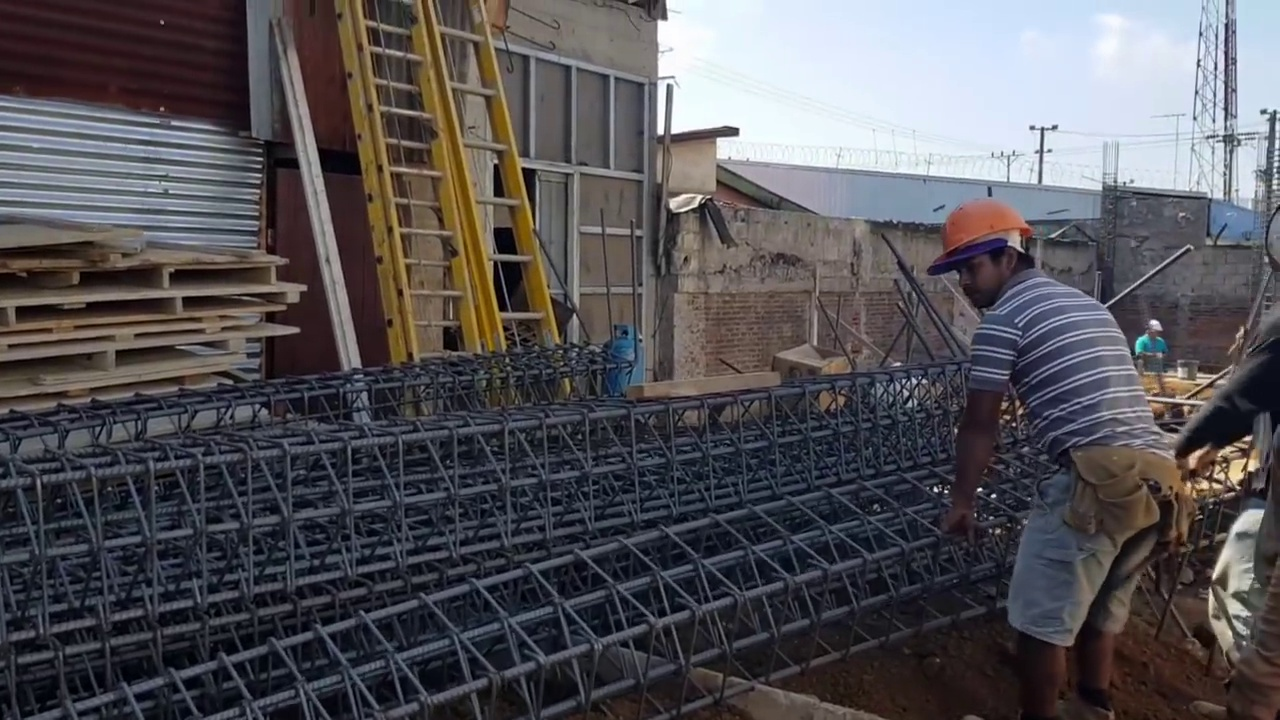helmet: (930, 189, 1038, 281), (1146, 319, 1164, 333)
helmet-on: (937, 198, 1044, 313), (1143, 317, 1164, 339)
person: (930, 186, 1186, 717), (1172, 264, 1280, 720), (1135, 317, 1168, 375)
